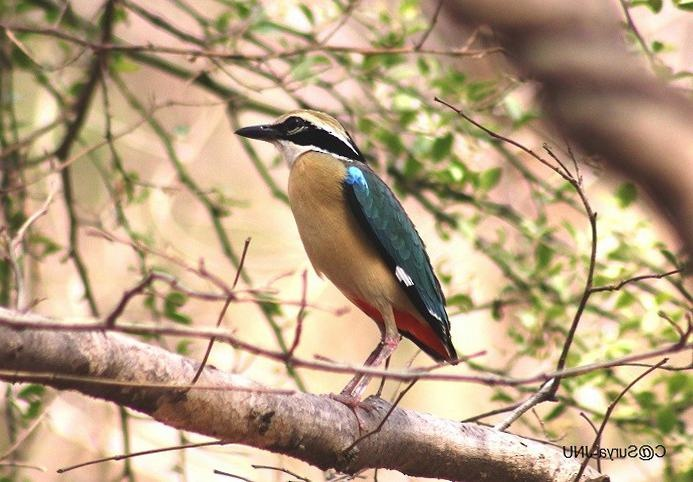pitta: (215, 99, 494, 446)
